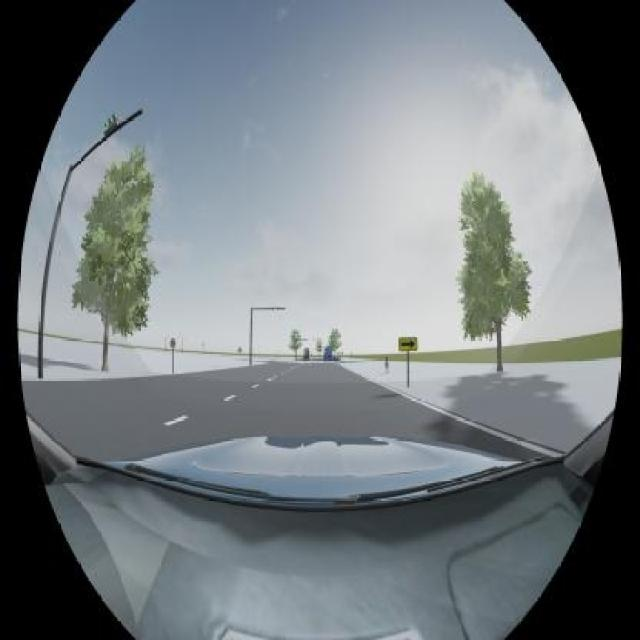forb_speed_over_30: (170, 339, 176, 348)
